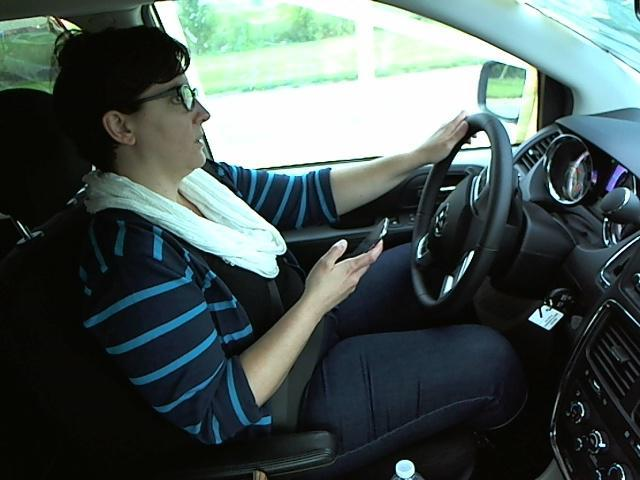PhoneUse: (340, 212, 397, 284)
